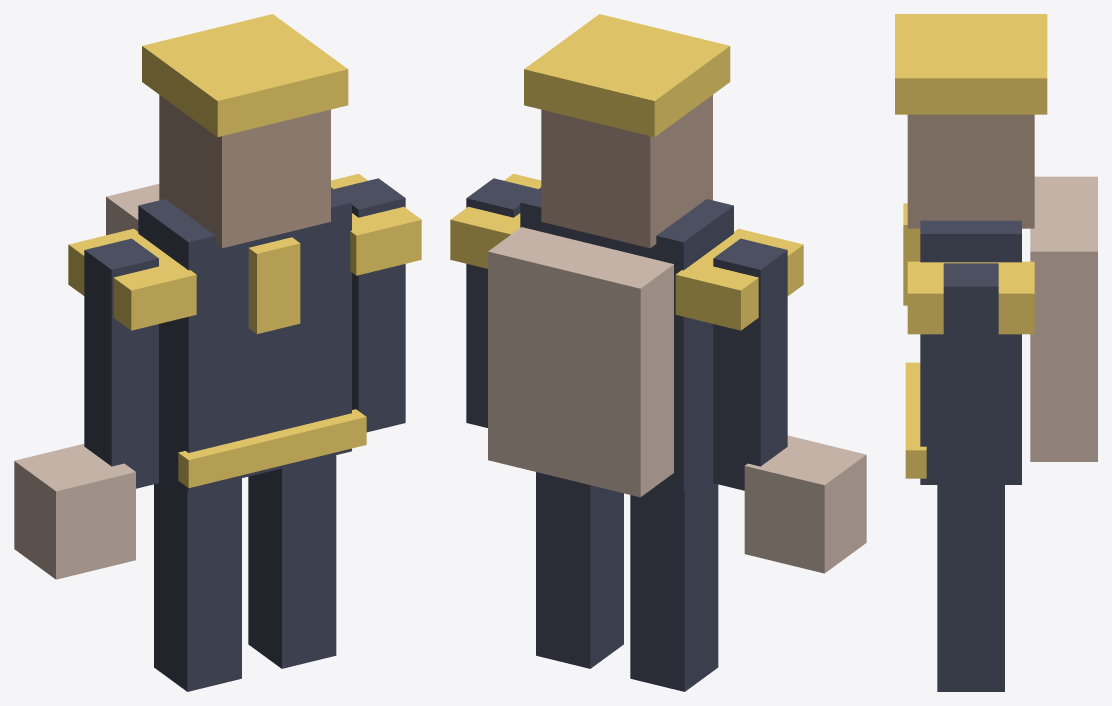
The model's file is 02_sable_holloway_tamer_under_black_market.glb.
3 renders of one model, left to right at view 1: azimuth 30°, elevation 25°; view 2: azimuth 150°, elevation 25°; view 3: azimuth 270°, elevation 25°, orthographic.
Parts seen in each view (by area): view 1: Sable Holloway, Tamer under Black-Market; view 2: Sable Holloway, Tamer under Black-Market; view 3: Sable Holloway, Tamer under Black-Market.
Boxes of the visible parts, bbox=[...] form: Sable Holloway, Tamer under Black-Market: bbox=[14, 14, 421, 691]; Sable Holloway, Tamer under Black-Market: bbox=[450, 14, 866, 691]; Sable Holloway, Tamer under Black-Market: bbox=[895, 14, 1097, 691].
Size of the model in its own units: 1.04 by 1.66 by 0.5019.
